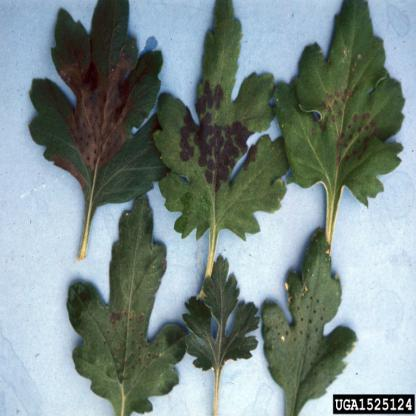Tomato leaf late blight: (269, 3, 404, 239), (62, 182, 196, 406), (260, 210, 370, 405), (184, 258, 261, 398)
